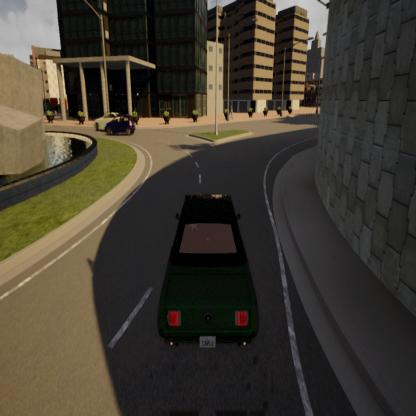Cars: (144, 182, 265, 371), (92, 109, 124, 135), (104, 113, 137, 138)
